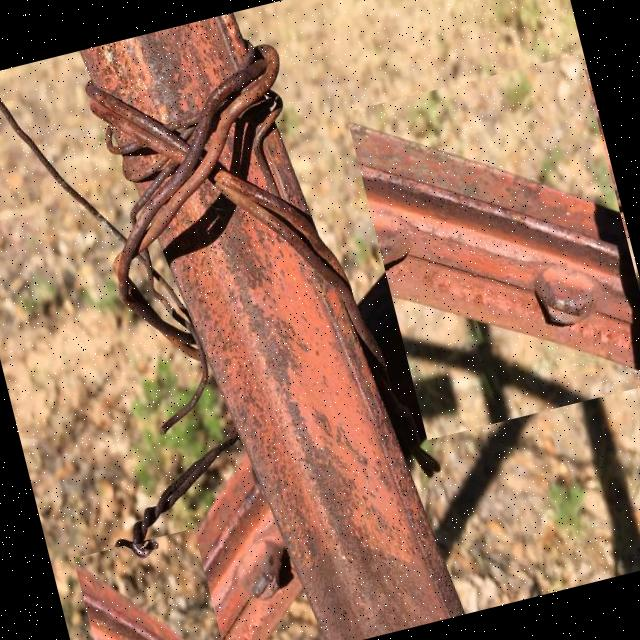Corrosion: (59, 0, 468, 640)
